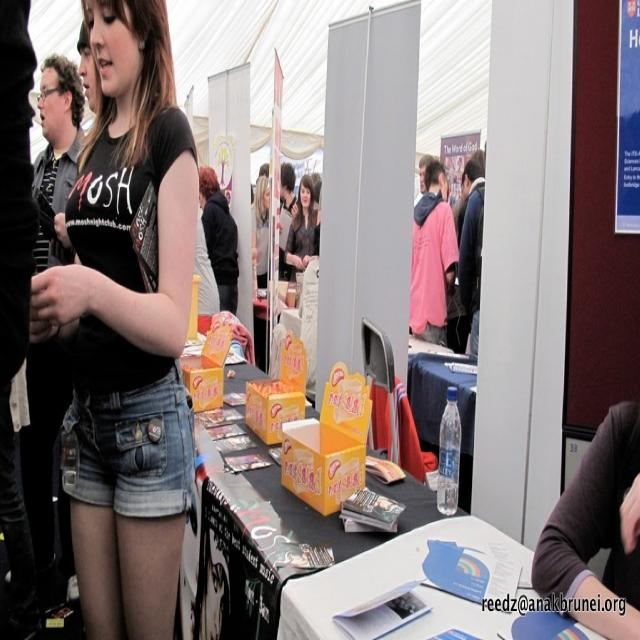Box: (278, 393, 362, 507), (244, 326, 314, 443), (178, 326, 236, 412)
